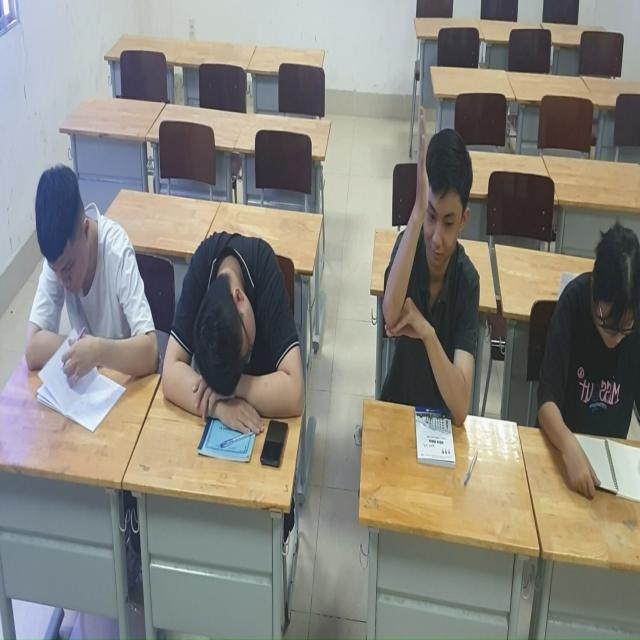raise_hand: (379, 104, 490, 488)
read: (8, 157, 155, 433), (537, 227, 640, 499)
sleep: (152, 229, 308, 466)
